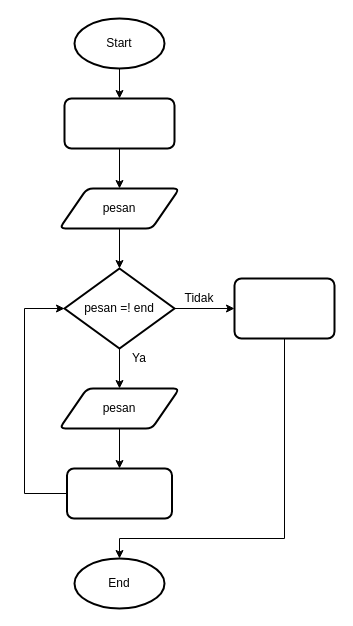
Image size: 353x626. Some labels were removed from this diagram. Each missing label, with the box of its shape:
Koneksi ke socket tujuan: (63, 97, 175, 149)
Mengirim pesan dalam format hexa ke server: (66, 467, 172, 519)
Menutup koneksi socket: (233, 277, 335, 339)
